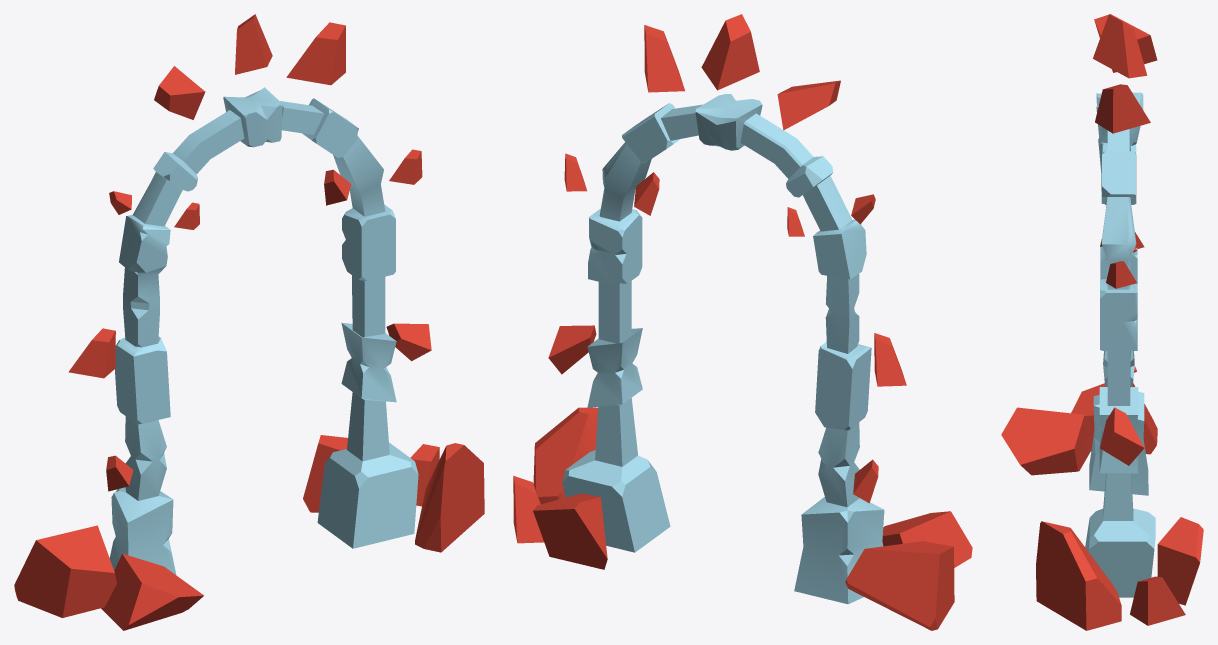
The model's file is Portal.fbx.
The picture shows the model from 3 angles, left to right: view 1: azimuth 30°, elevation 25°; view 2: azimuth 150°, elevation 25°; view 3: azimuth 270°, elevation 25°; orthographic projection. The views are drawn at different scales.
Visible parts, largest first — view 1: Portal; view 2: Portal; view 3: Portal.
Part boxes in pixels (bbox=[...]): Portal: bbox=[14, 14, 484, 630]; Portal: bbox=[513, 14, 972, 630]; Portal: bbox=[1001, 14, 1203, 630].
Size of the model in its own units: 10.46 by 12.57 by 4.43.
